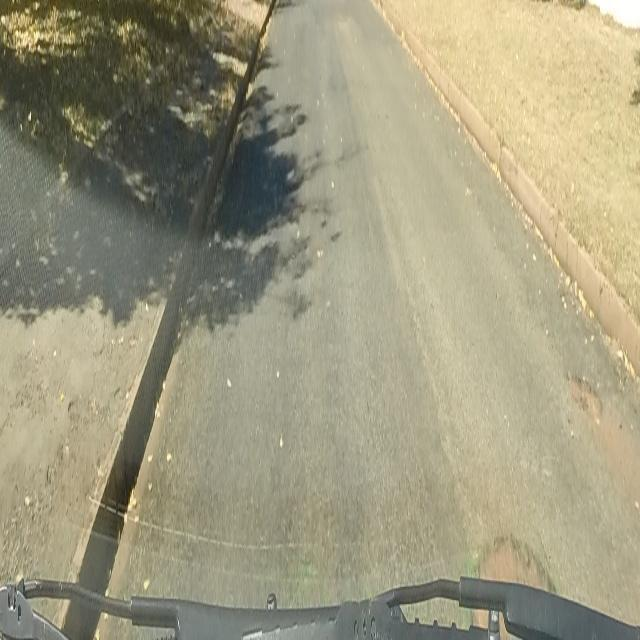pothole: (466, 532, 558, 610), (561, 368, 609, 432)
